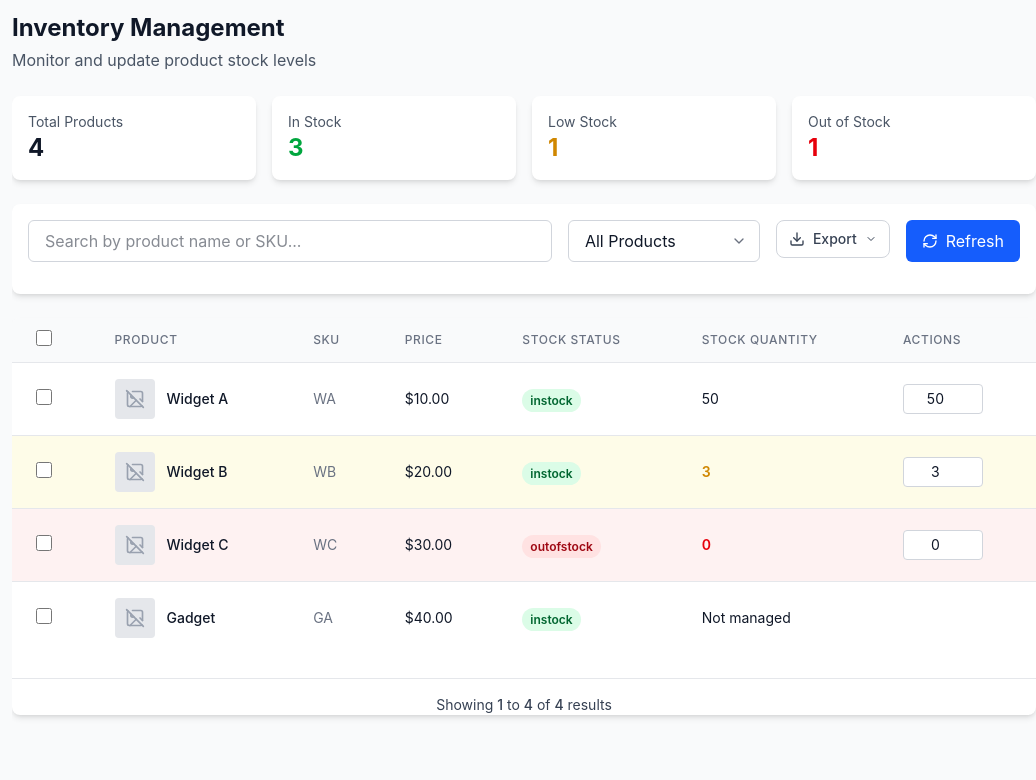
Test case: InventoryPage › search › filters products by SKU
Step 1. Type "WA" into the field with placeholder "Search by product name or SKU..." → (290, 241), box [28,220,552,262]
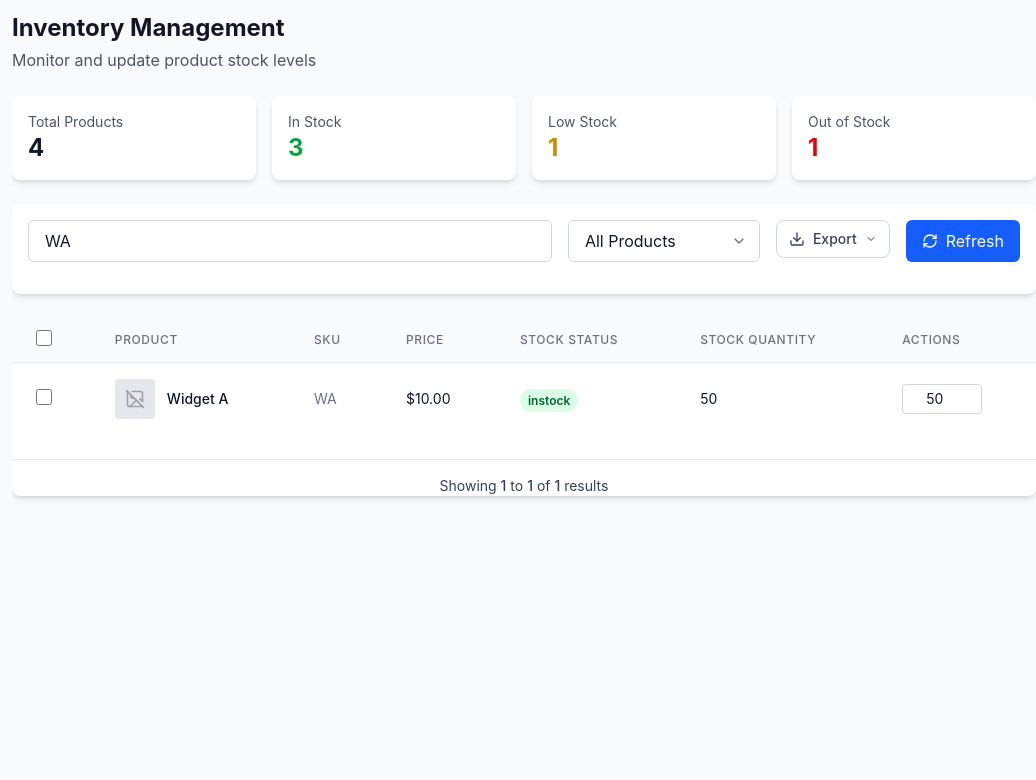
Expected: the text "Widget A" is shown, [167,389,228,409]
Expected: the text "Widget B" is gone
